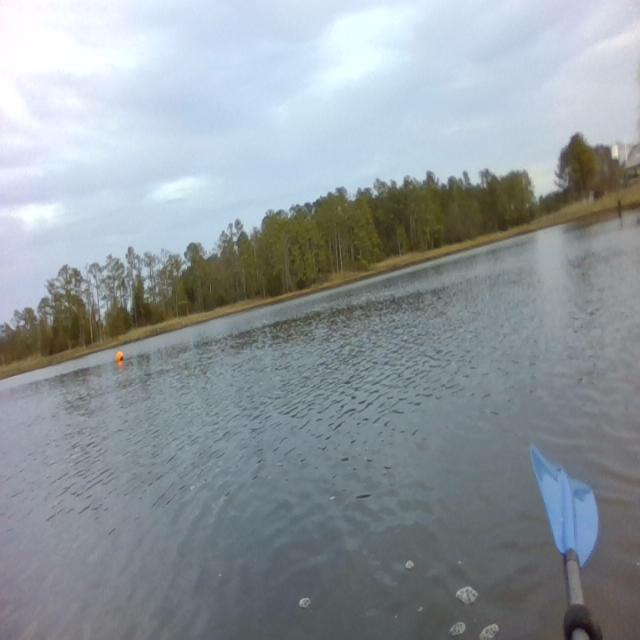Buoy: (115, 348, 124, 364)
